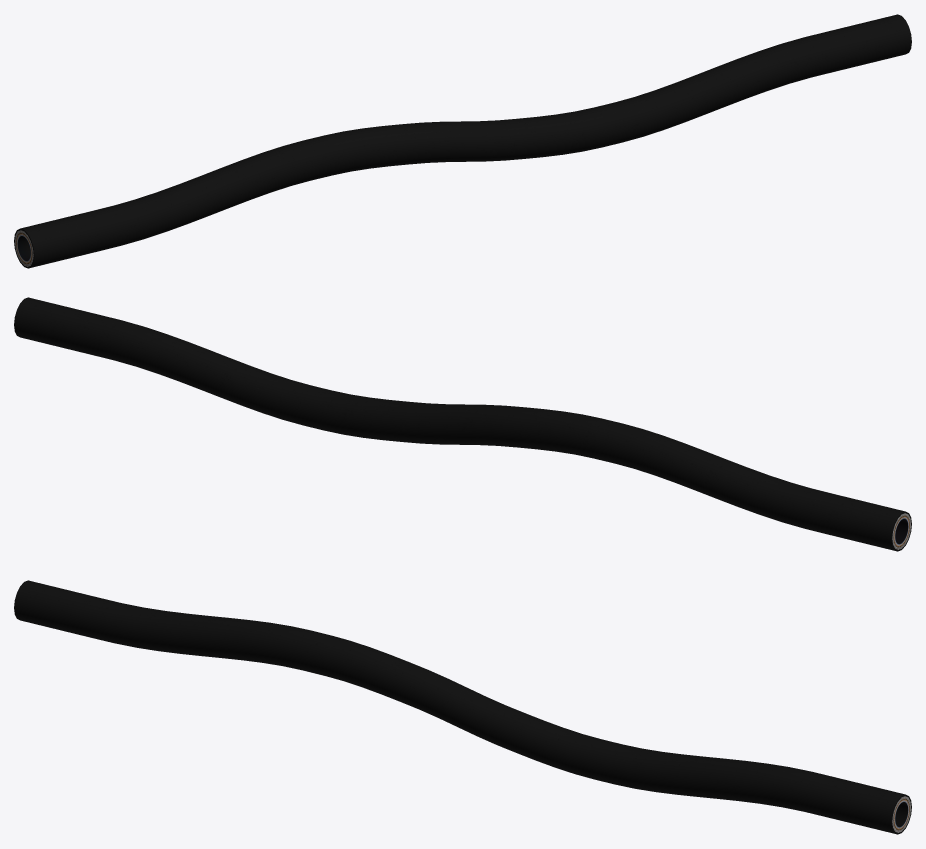
File: SB_SS_TPE-06_V1.1.glb
The picture shows the model from 3 angles, top to bottom: view 1: azimuth 30°, elevation 25°; view 2: azimuth 150°, elevation 25°; view 3: azimuth 330°, elevation 25°; orthographic projection.
Parts seen in each view (by area): view 1: SB_SS/TPE_Cut-06, SB_SS/TPE_Mid-06; view 2: SB_SS/TPE_Cut-06, SB_SS/TPE_Mid-06; view 3: SB_SS/TPE_Cut-06, SB_SS/TPE_Mid-06.
Boxes of the visible parts, x1,y1,x2,y2 form: SB_SS/TPE_Cut-06: (14,14,911,268); SB_SS/TPE_Mid-06: (325,107,608,175); SB_SS/TPE_Cut-06: (14,297,911,551); SB_SS/TPE_Mid-06: (317,390,600,458); SB_SS/TPE_Cut-06: (14,580,911,834); SB_SS/TPE_Mid-06: (317,636,602,779).
Size of the model in its own units: 0.3074 by 0.0251 by 0.0124.
3 materials, 3 textured.
